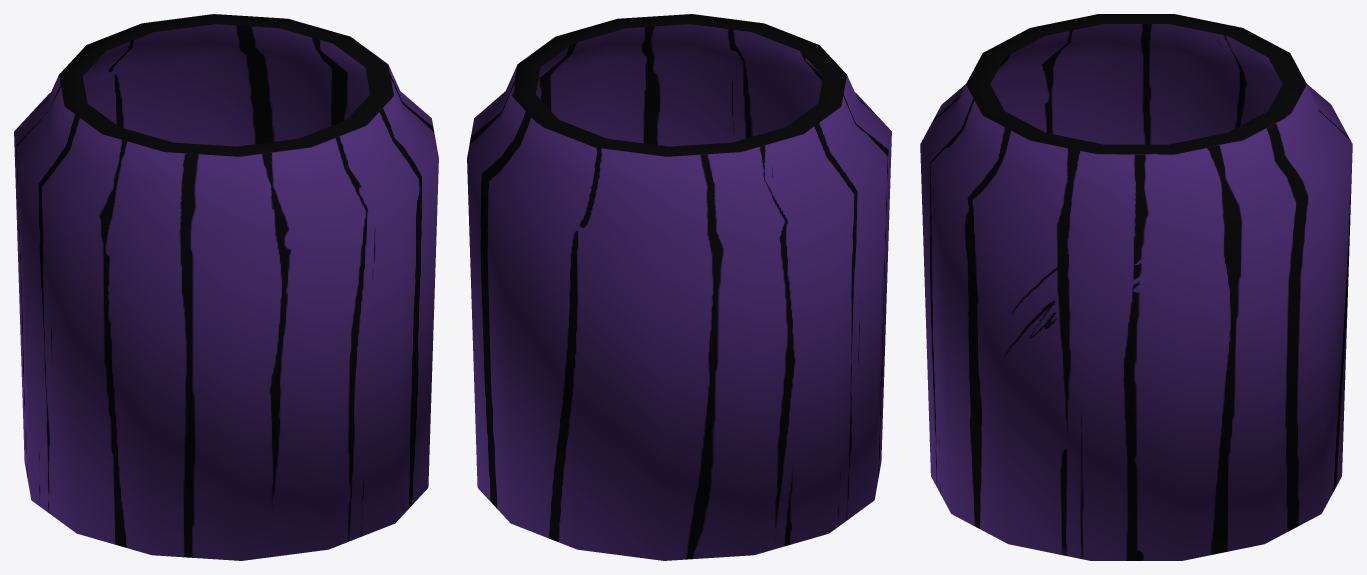
File: trashcan.fbx
3 renders of one model, left to right at view 1: azimuth 30°, elevation 25°; view 2: azimuth 150°, elevation 25°; view 3: azimuth 270°, elevation 25°, orthographic.
Parts seen in each view (by area): view 1: Cylinder; view 2: Cylinder; view 3: Cylinder.
Boxes of the visible parts, x1,y1,x2,y2 form: Cylinder: (14, 14, 438, 560); Cylinder: (467, 14, 891, 560); Cylinder: (920, 14, 1352, 560).
Size of the model in its own units: 195 by 200 by 200.
